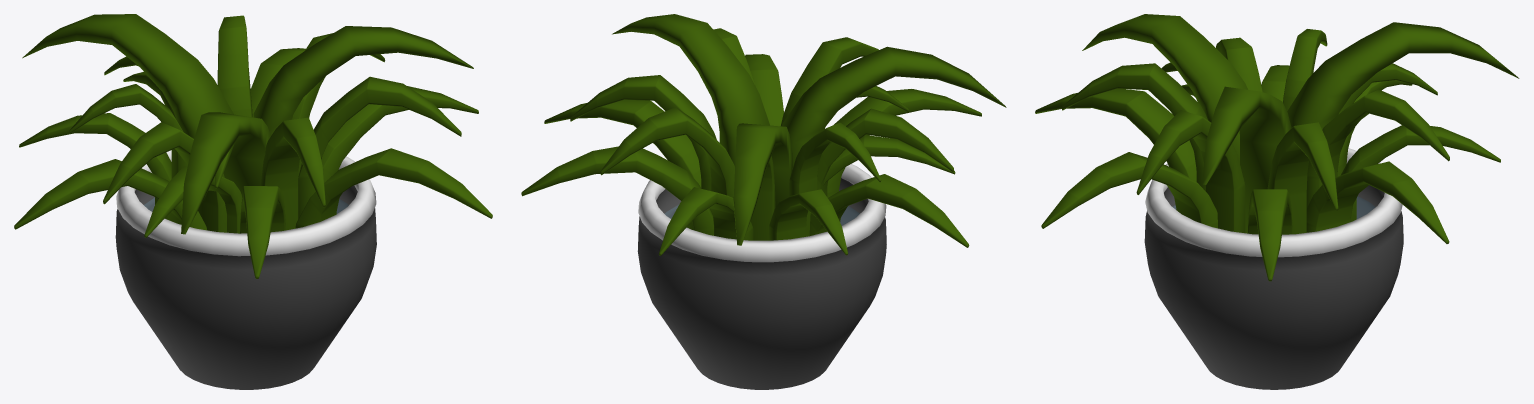
Rendered from Plant2.fbx.
The picture shows the model from 3 angles, left to right: view 1: azimuth 30°, elevation 25°; view 2: azimuth 150°, elevation 25°; view 3: azimuth 270°, elevation 25°; orthographic projection. The views are drawn at different scales.
Visible parts, largest first — view 1: Plant, Flower Pot; view 2: Plant, Flower Pot; view 3: Plant, Flower Pot.
Boxes of the visible parts, x1,y1,x2,y2 form: Plant: (14, 14, 492, 278); Flower Pot: (115, 150, 376, 389); Plant: (521, 14, 1006, 255); Flower Pot: (637, 164, 886, 389); Plant: (1035, 14, 1519, 281); Flower Pot: (1144, 148, 1403, 389).
Bounding box in the file's own units: 275 × 184 × 257.
